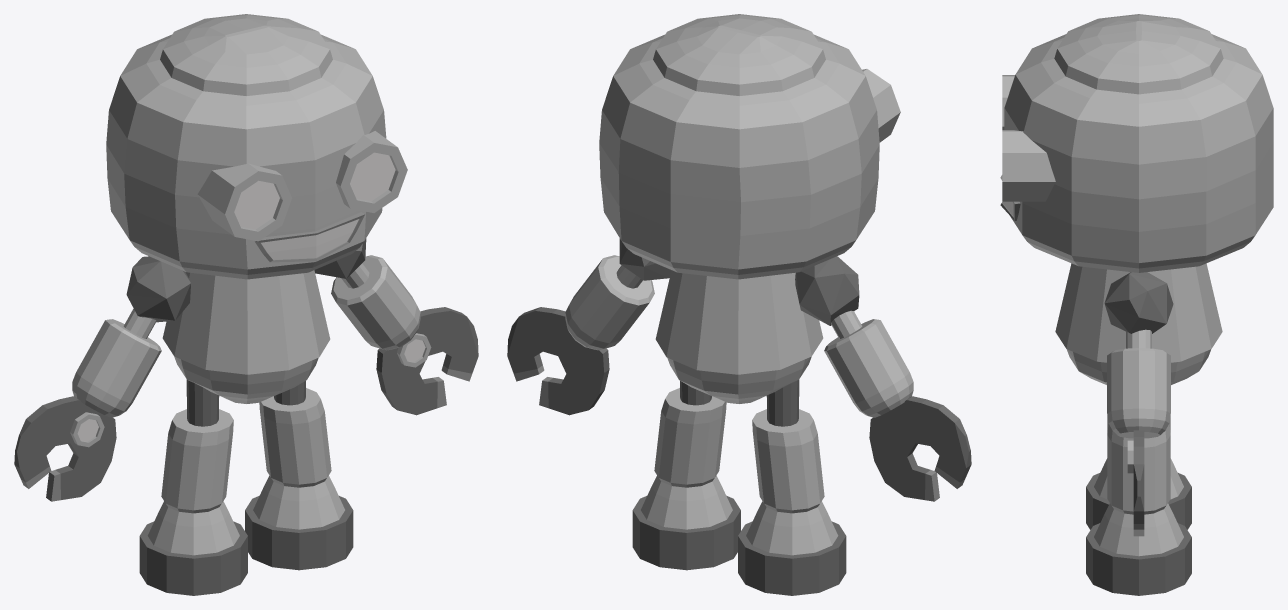
The model's file is Robot.fbx.
3 renders of one model, left to right at view 1: azimuth 30°, elevation 25°; view 2: azimuth 150°, elevation 25°; view 3: azimuth 270°, elevation 25°, orthographic. The views are drawn at different scales.
Parts seen in each view (by area): view 1: Robot; view 2: Robot; view 3: Robot.
Boxes of the visible parts, x1,y1,x2,y2 form: Robot: (14,14,478,595); Robot: (507,14,971,595); Robot: (1000,14,1273,595).
Bounding box in the file's own units: 1.96 × 2.15 × 1.03.
